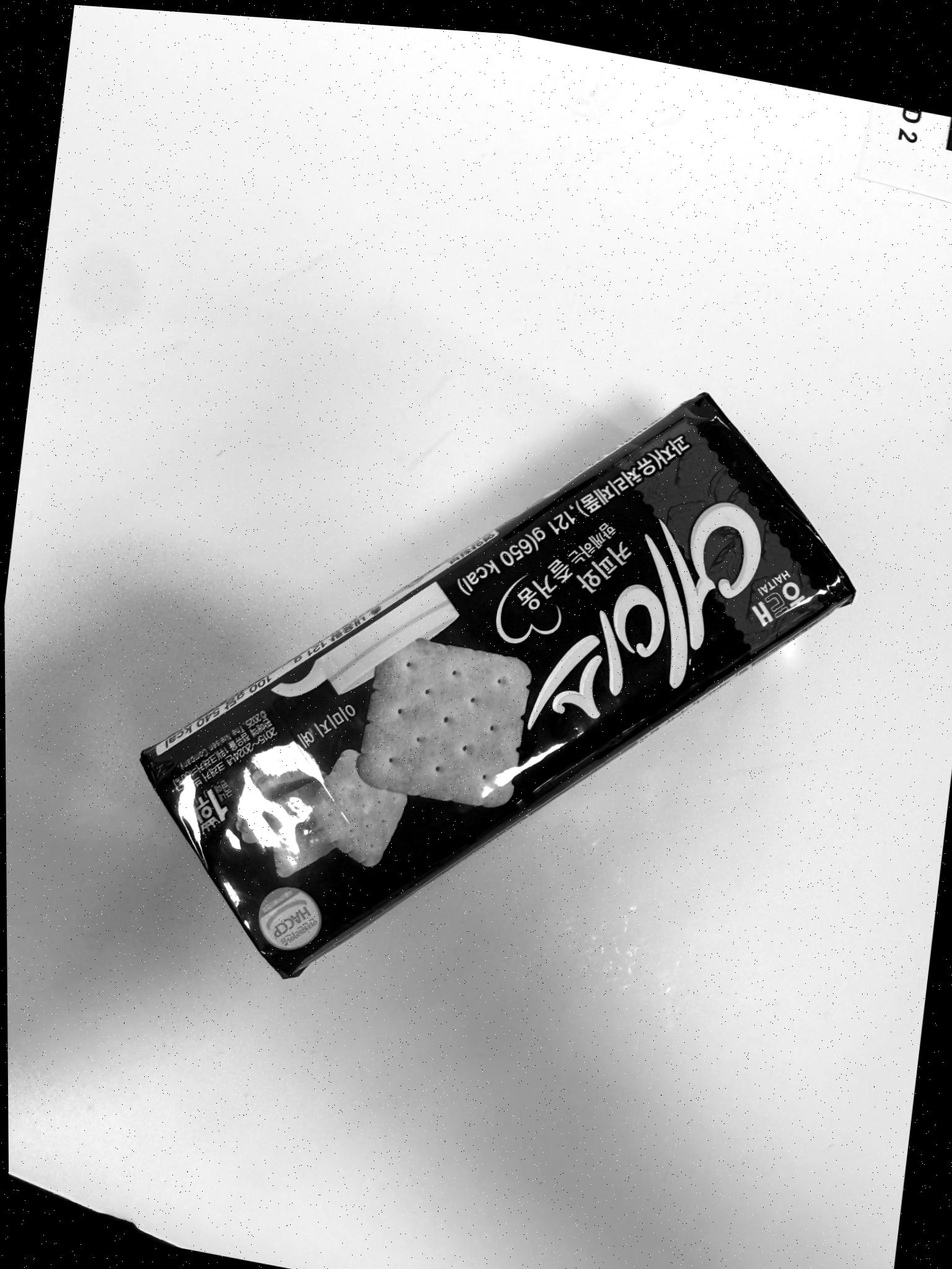cracker_ace: (141, 394, 855, 978)
